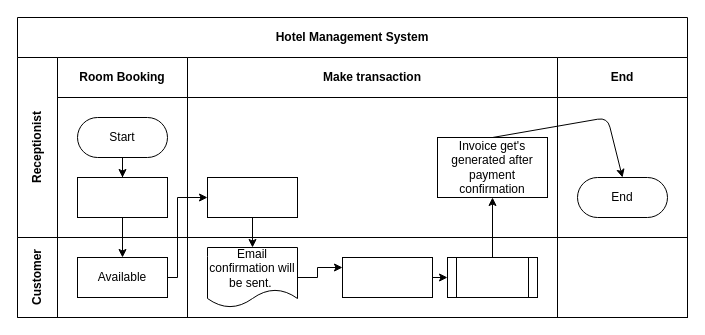
This 705x335 diagram has some shape labels left out. The shapes that lost their labels are listed below. From the top down, each one's centre as x and y in pixels, then its label:
[122,197]: Checks Availability
[252,197]: Perform's Booking
[387,277]: Stays
[492,277]: Checkout
